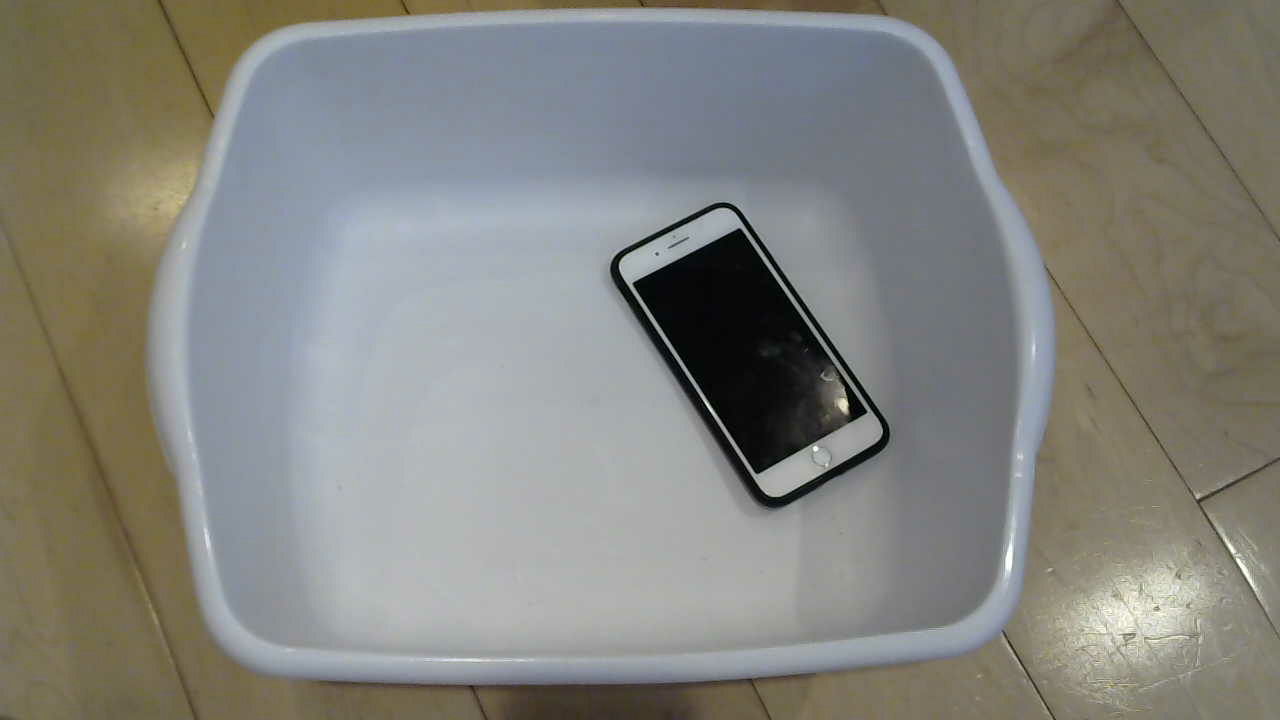phone: (610, 194, 905, 534)
